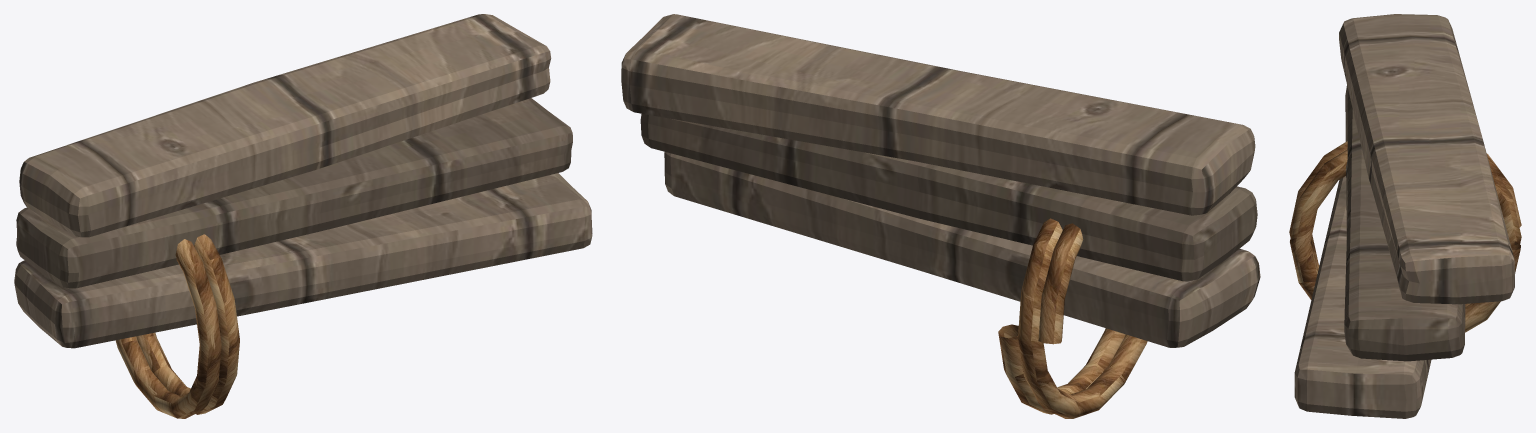
The model's file is plank_mushroom.glb.
3 renders of one model, left to right at view 1: azimuth 30°, elevation 25°; view 2: azimuth 150°, elevation 25°; view 3: azimuth 270°, elevation 25°, orthographic. The views are drawn at different scales.
Visible parts, largest first — view 1: model; view 2: model; view 3: model.
Boxes of the visible parts, x1=… form: model: x1=14, y1=14, x2=592, y2=418; model: x1=621, y1=14, x2=1260, y2=418; model: x1=1289, y1=14, x2=1521, y2=418.
Bounding box in the file's own units: 0.429 × 0.2145 × 0.1658.
4 materials, 4 textured.
